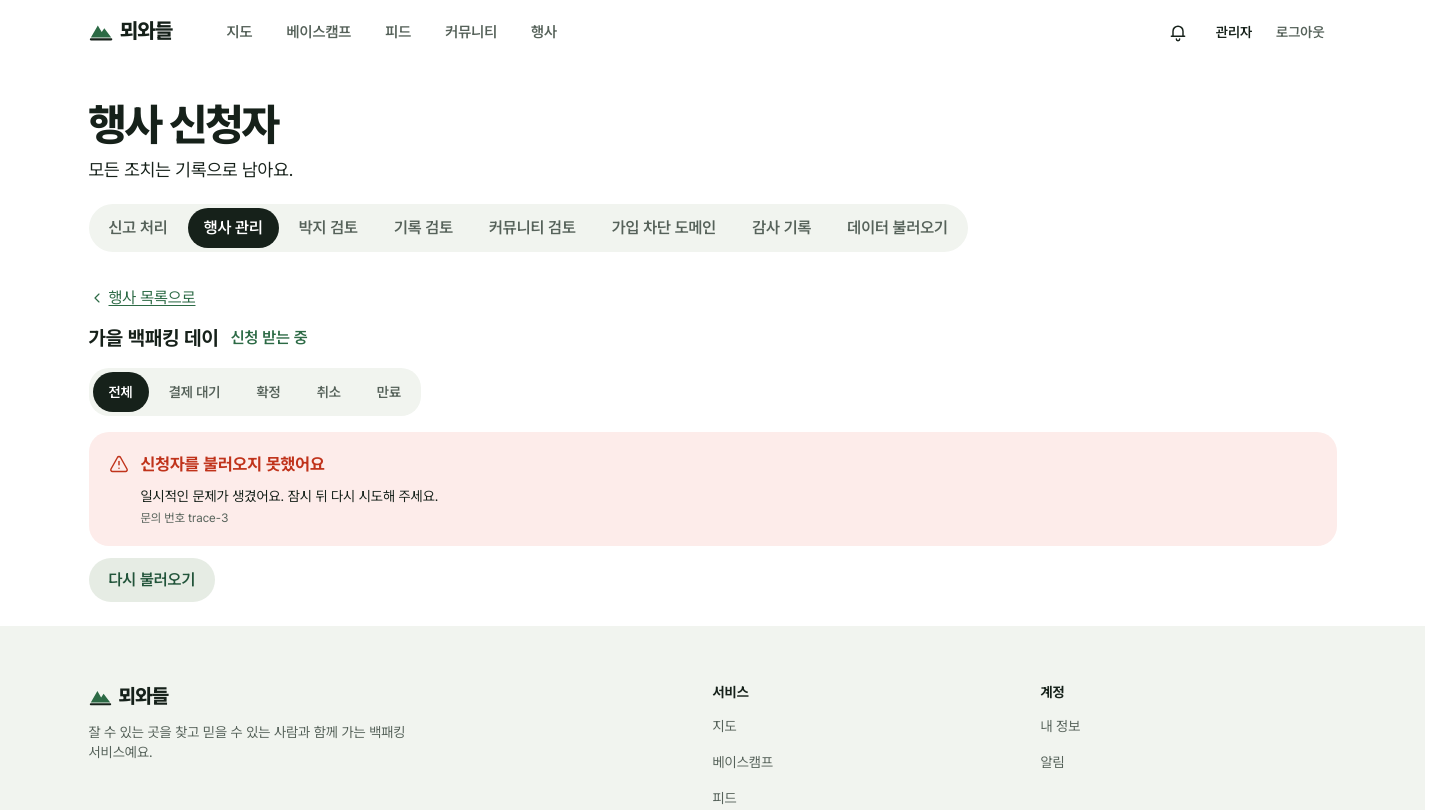
Test: 관리자 행사 신청자 목록 › 신청자를 불러오지 못하면 오류와 다시 불러오기를 보여 주고, 누르면 다시 불러온다
Click the button "다시 불러오기" at (152, 580), box [88,558,215,602]
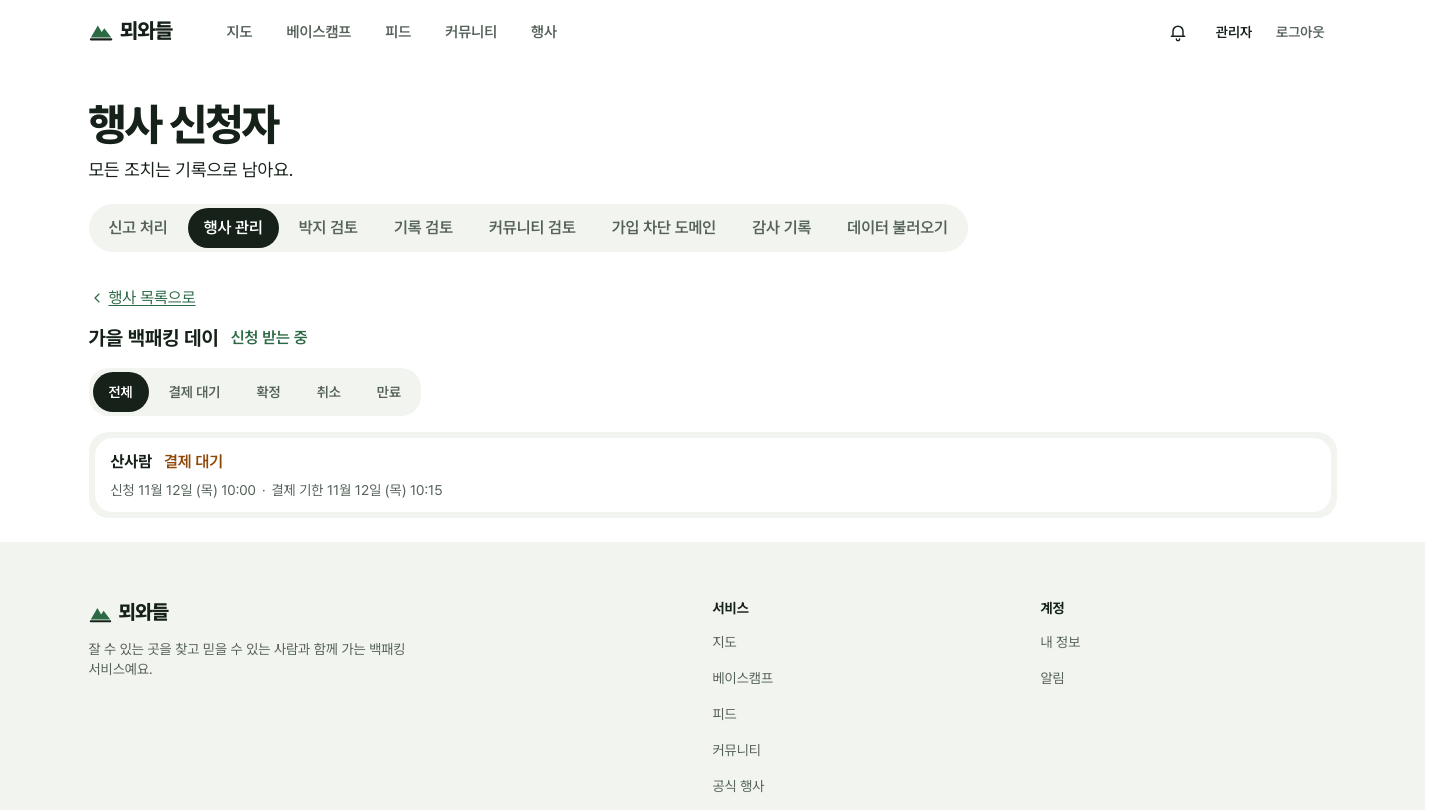
Expected: the message "신청자를 불러오지 못했어요 일시적인 문제가 생겼어요. 잠시 뒤 다시 시도해 주세요. 문의 번호 trace-3 다시 불러오기" is gone
